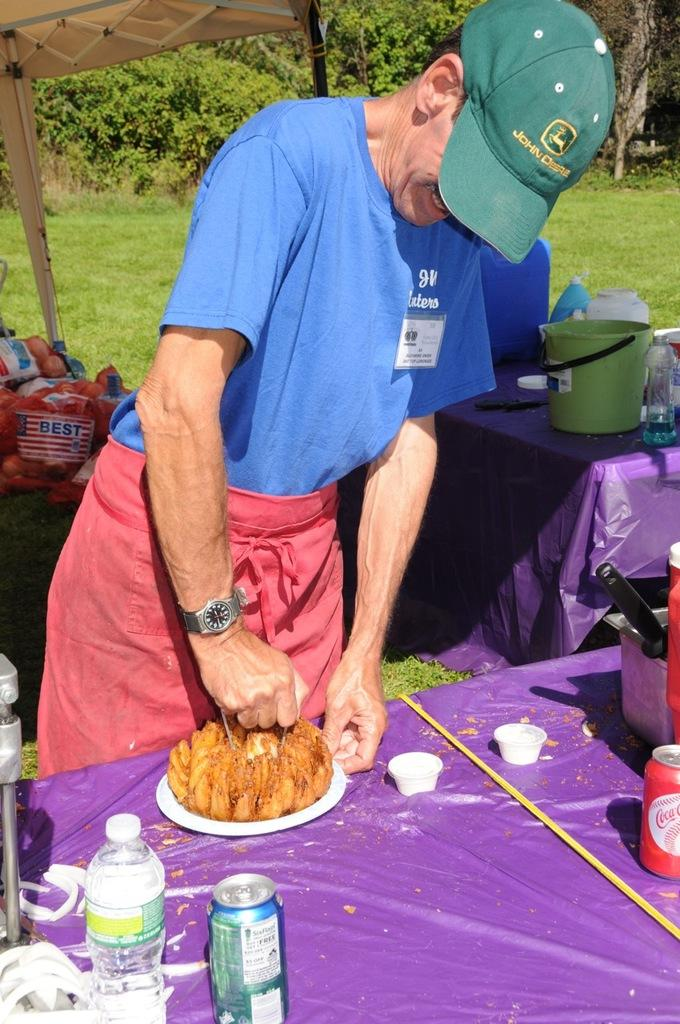Hat: (437, 0, 616, 265)
